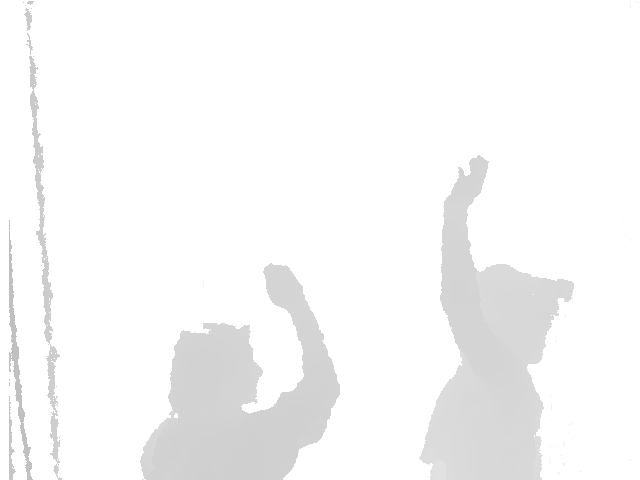hand: (441, 153, 489, 207), (263, 264, 307, 305)
head: (453, 263, 574, 368), (168, 322, 263, 416)
person: (419, 153, 574, 479), (137, 264, 341, 480)
